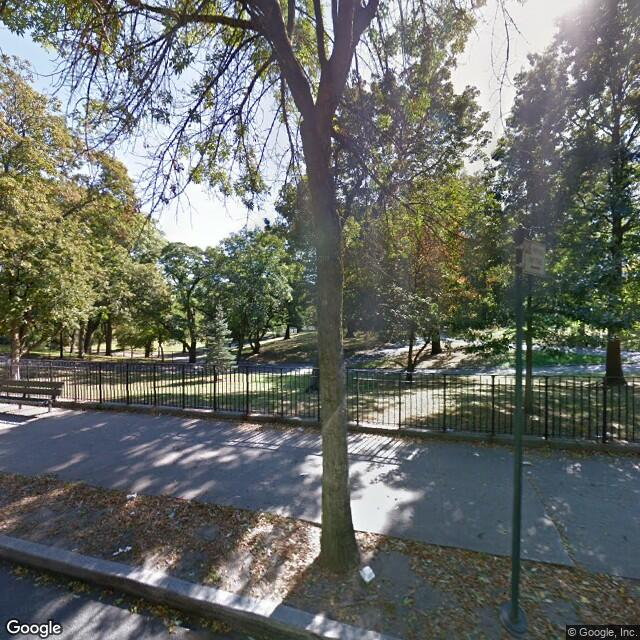litter: (360, 564, 380, 584), (113, 546, 135, 557), (123, 494, 141, 504), (171, 618, 185, 626)
